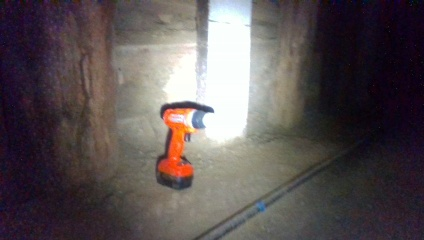drill: (155, 107, 218, 192)
